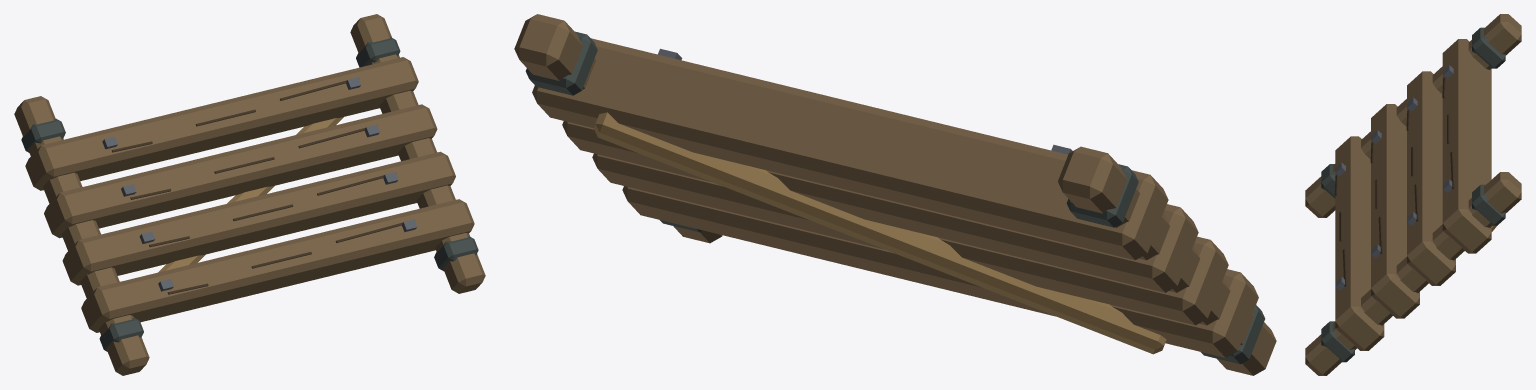
Rendered from pallet-down.glb.
3 renders of one model, left to right at view 1: azimuth 30°, elevation 25°; view 2: azimuth 150°, elevation 25°; view 3: azimuth 270°, elevation 25°, orthographic. The views are drawn at different scales.
Visible parts, largest first — view 1: Pallet_pivot_Weathered_oak, Pallet_pivot_Pallet_iron, Pallet_pivot_Wood_grain, Pallet_pivot_surface, Diagonal_brace; view 2: Pallet_pivot_Weathered_oak, Diagonal_brace, Pallet_pivot_Pallet_iron; view 3: Pallet_pivot_Weathered_oak, Pallet_pivot_Pallet_iron, Pallet_pivot_Wood_grain, Pallet_pivot_surface.
Boxes of the visible parts, x1,y1,x2,y2 form: Pallet_pivot_Weathered_oak: [14, 14, 485, 375]; Pallet_pivot_Pallet_iron: [21, 37, 478, 351]; Pallet_pivot_Wood_grain: [111, 80, 414, 294]; Pallet_pivot_surface: [102, 77, 416, 291]; Diagonal_brace: [158, 117, 343, 272]; Pallet_pivot_Weathered_oak: [514, 14, 1276, 375]; Diagonal_brace: [594, 112, 1166, 354]; Pallet_pivot_Pallet_iron: [525, 31, 1265, 364]; Pallet_pivot_Weathered_oak: [1305, 14, 1521, 375]; Pallet_pivot_Pallet_iron: [1321, 27, 1505, 362]; Pallet_pivot_Wood_grain: [1334, 77, 1454, 286]; Pallet_pivot_surface: [1335, 65, 1453, 290].
Size of the model in its own units: 2.45 by 1.28 by 1.28.
